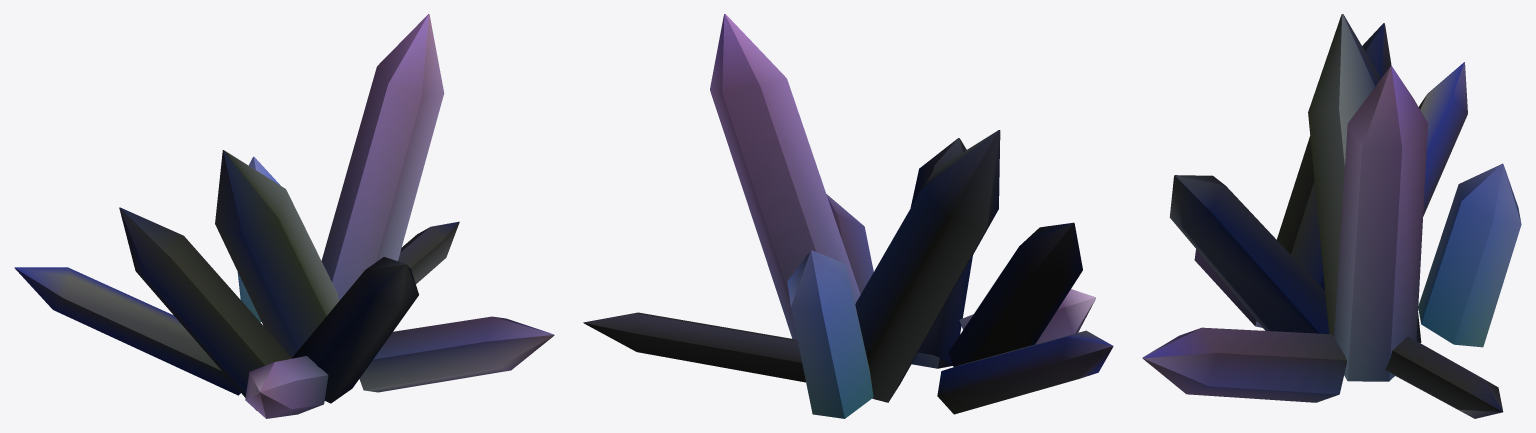
File: Crystal.fbx
3 renders of one model, left to right at view 1: azimuth 30°, elevation 25°; view 2: azimuth 150°, elevation 25°; view 3: azimuth 270°, elevation 25°, orthographic. The views are drawn at different scales.
Parts seen in each view (by area): view 1: crystal_01; view 2: crystal_01; view 3: crystal_01.
Part boxes in pixels (x1,y1,x2,y2): crystal_01: (14, 14, 554, 418); crystal_01: (583, 14, 1113, 418); crystal_01: (1142, 14, 1521, 418).
Size of the model in its own units: 16.41 by 11.34 by 10.16.
